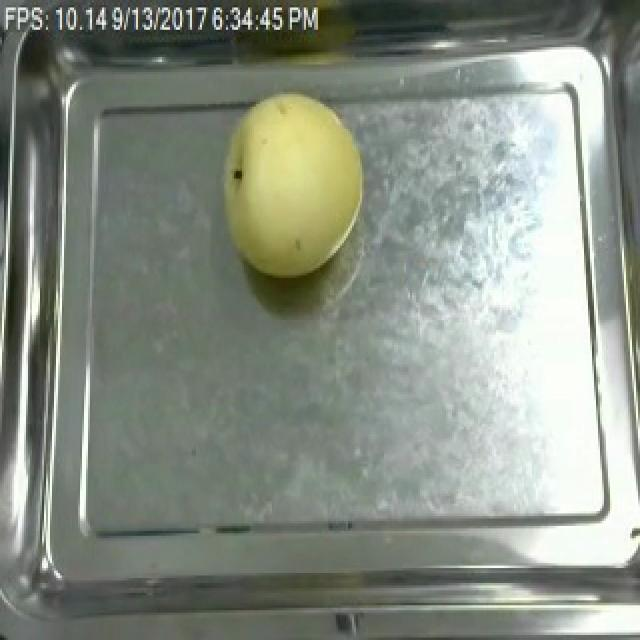Fruit: (210, 84, 374, 286)
